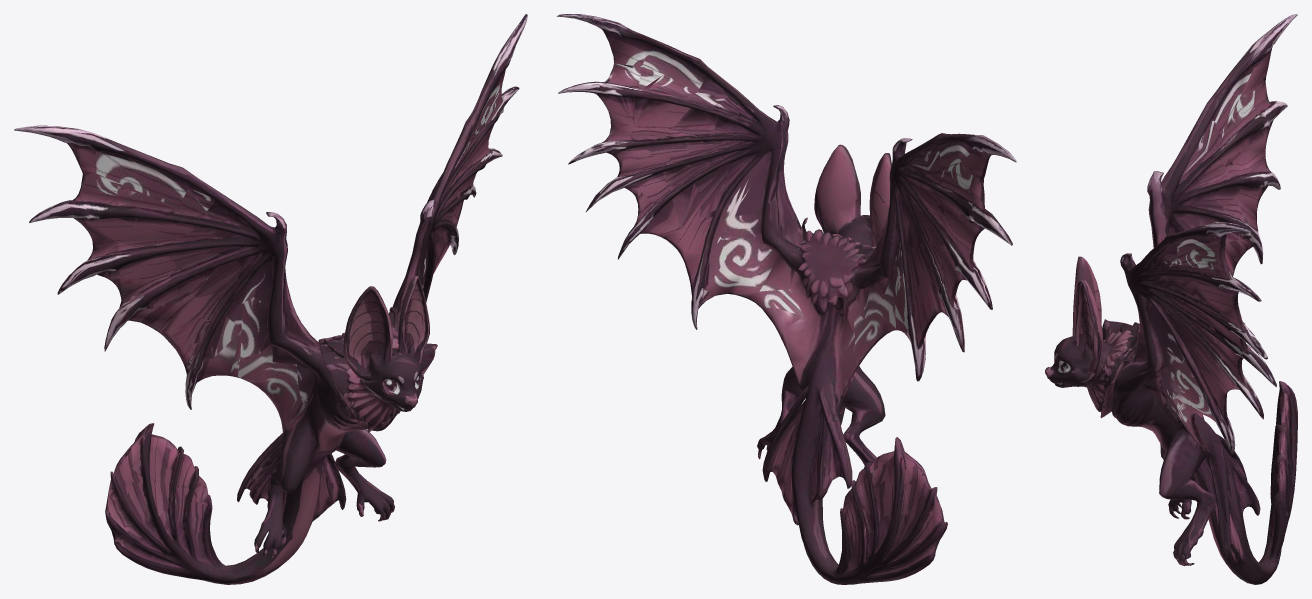
3 renders of one model, left to right at view 1: azimuth 30°, elevation 25°; view 2: azimuth 150°, elevation 25°; view 3: azimuth 270°, elevation 25°, orthographic. The views are drawn at different scales.
Visible parts, largest first — view 1: Mesh_0; view 2: Mesh_0; view 3: Mesh_0.
Boxes of the visible parts, x1,y1,x2,y2 form: Mesh_0: (14, 14, 527, 584); Mesh_0: (556, 14, 1016, 584); Mesh_0: (1045, 14, 1297, 584).
Size of the model in its own units: 1.9 by 1.86 by 0.8842.
Materials: 1 (1 with a texture image).
